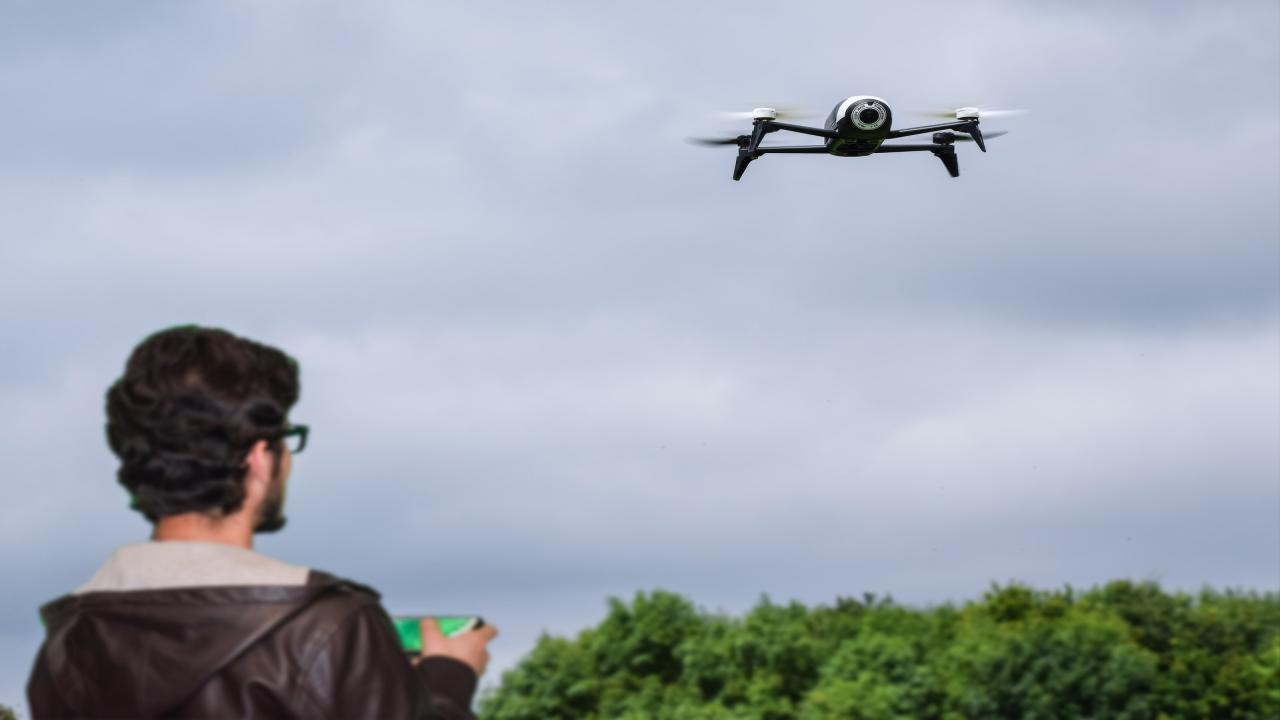Drone: (672, 69, 1050, 198)
